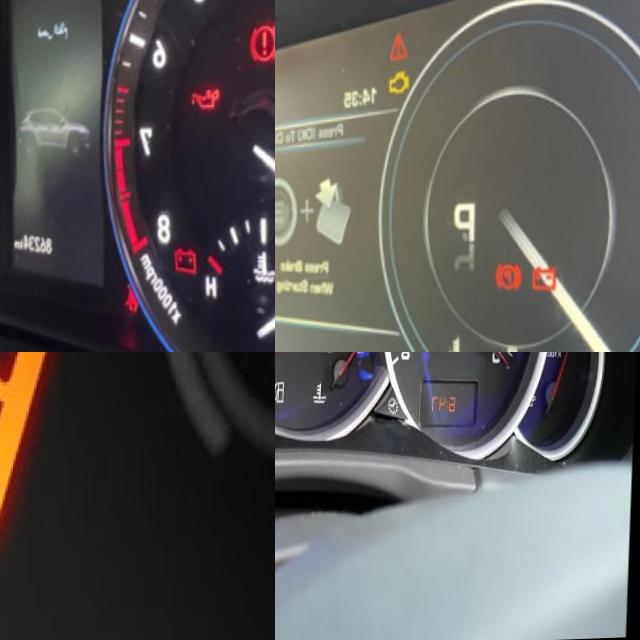Washer Fluid: (0, 352, 78, 565)
